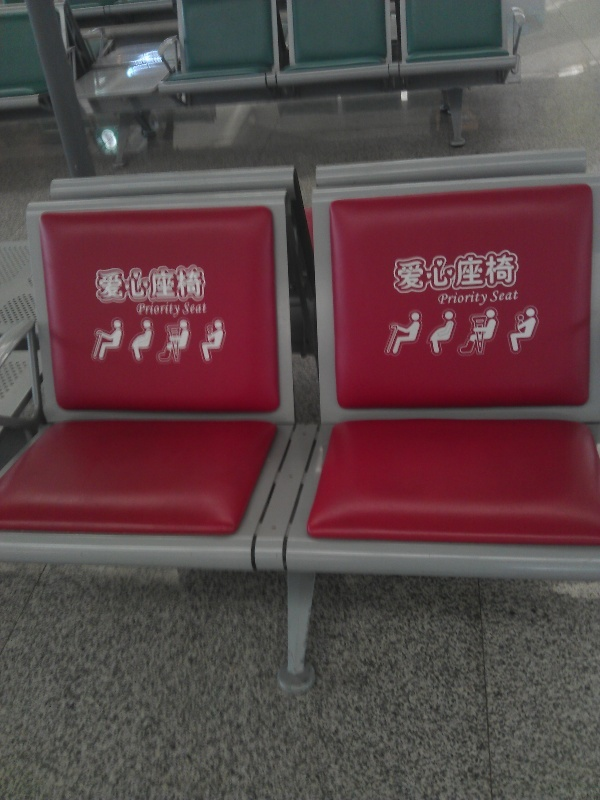text: (401, 251, 416, 295), (417, 251, 432, 295), (433, 251, 448, 295), (449, 251, 464, 295), (465, 251, 480, 295), (481, 251, 496, 295), (497, 251, 512, 295), (97, 265, 112, 304), (113, 265, 128, 304), (129, 265, 144, 304), (145, 265, 160, 304), (161, 265, 176, 304), (177, 265, 192, 304), (193, 265, 207, 304), (391, 251, 400, 295), (513, 251, 520, 295), (449, 290, 464, 309), (465, 290, 480, 309), (145, 303, 160, 319), (161, 303, 176, 319), (193, 301, 208, 315), (437, 290, 448, 309), (497, 291, 512, 303), (182, 301, 192, 315), (481, 290, 488, 309), (136, 303, 144, 319), (490, 291, 496, 303), (513, 291, 519, 303), (177, 303, 181, 319)
